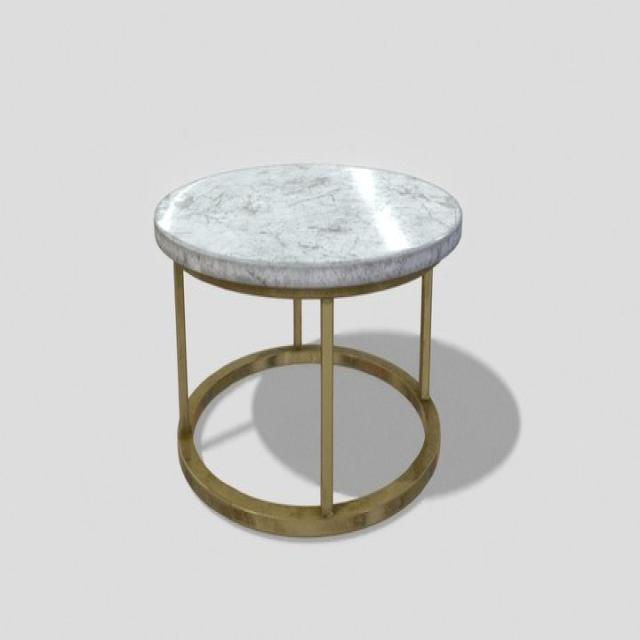table: (154, 157, 465, 540)
